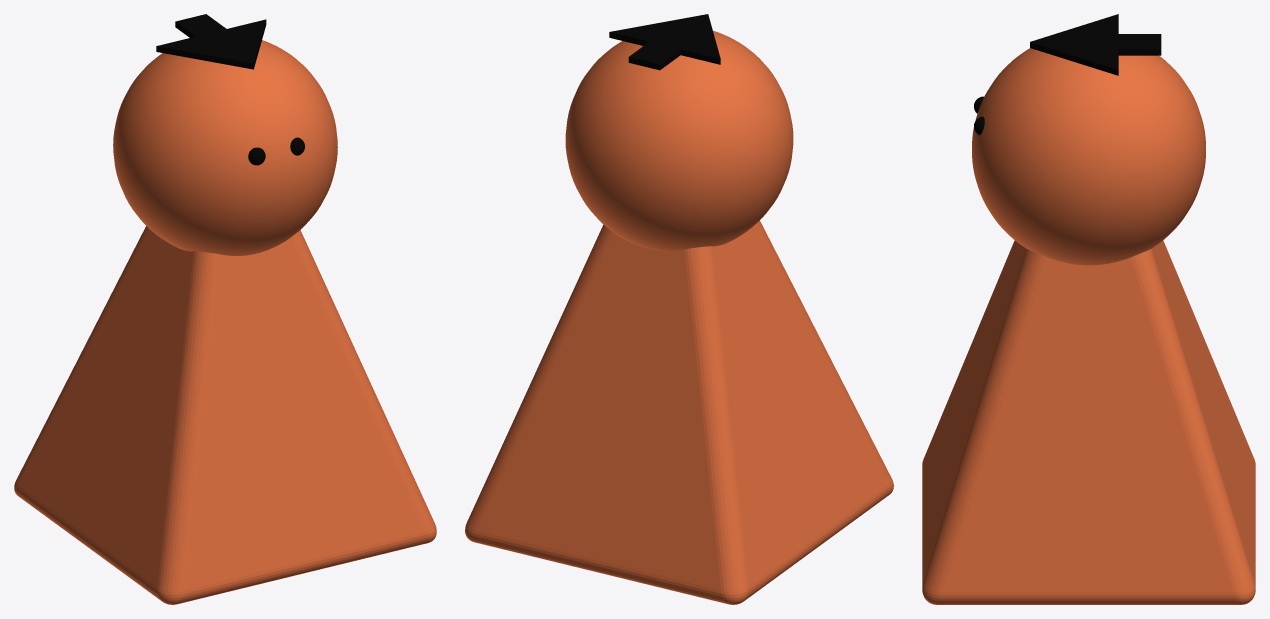
Rendered from 5beige.obj.
3 views of the same model, side by side, from view 1: azimuth 30°, elevation 25°; view 2: azimuth 150°, elevation 25°; view 3: azimuth 270°, elevation 25° (orthographic). The views are drawn at different scales.
Visible parts, largest first — view 1: Curve.003_Curve.009, Curve.003_Curve.010_Curve.003_Curve.001; view 2: Curve.003_Curve.009, Curve.003_Curve.010_Curve.003_Curve.001; view 3: Curve.003_Curve.009, Curve.003_Curve.010_Curve.003_Curve.001.
Boxes of the visible parts, box(x1,y1,x2,y2) form: Curve.003_Curve.009: box(14, 40, 436, 604); Curve.003_Curve.010_Curve.003_Curve.001: box(156, 14, 304, 165); Curve.003_Curve.009: box(465, 30, 893, 604); Curve.003_Curve.010_Curve.003_Curve.001: box(609, 14, 720, 70); Curve.003_Curve.009: box(922, 48, 1255, 604); Curve.003_Curve.010_Curve.003_Curve.001: box(974, 14, 1161, 134).
Size of the model in its own units: 0.2932 by 0.4819 by 0.2932.
